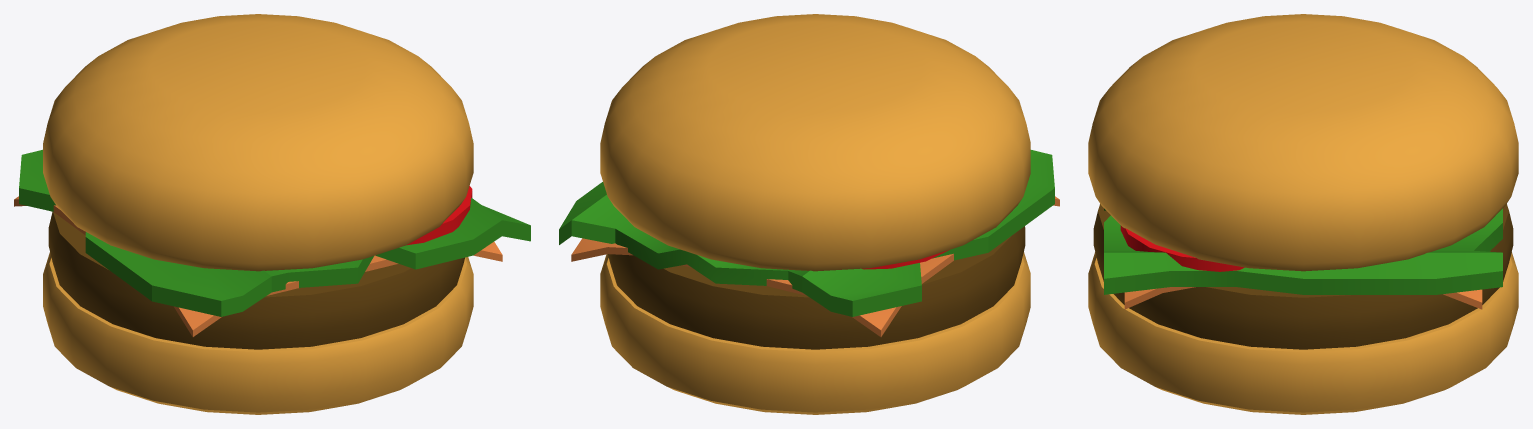
Rendered from cheeseburger.fbx.
3 views of the same model, side by side, from view 1: azimuth 30°, elevation 25°; view 2: azimuth 150°, elevation 25°; view 3: azimuth 270°, elevation 25° (orthographic).
Parts seen in each view (by area): view 1: Cheeseburger; view 2: Cheeseburger; view 3: Cheeseburger.
Boxes of the visible parts, x1,y1,x2,y2 form: Cheeseburger: (14,14,530,414); Cheeseburger: (559,14,1059,414); Cheeseburger: (1088,14,1518,414).
Bounding box in the file's own units: 40.79 × 40.79 × 27.52.
